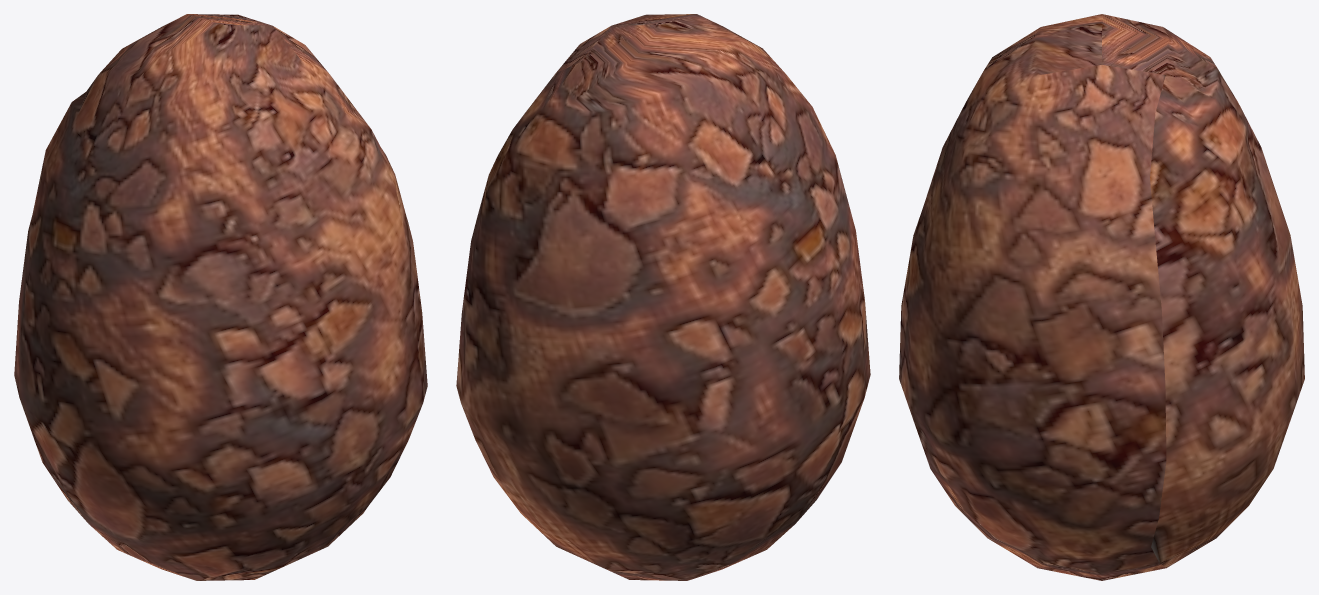
File: EggPickup.FBX
3 views of the same model, side by side, from view 1: azimuth 30°, elevation 25°; view 2: azimuth 150°, elevation 25°; view 3: azimuth 270°, elevation 25° (orthographic).
Parts seen in each view (by area): view 1: Box001; view 2: Box001; view 3: Box001.
Part boxes in pixels (x1=…): Box001: x1=14, y1=14, x2=427, y2=580; Box001: x1=456, y1=14, x2=870, y2=580; Box001: x1=899, y1=14, x2=1304, y2=580.
Bounding box in the file's own units: 29.79 × 43.74 × 29.79.
